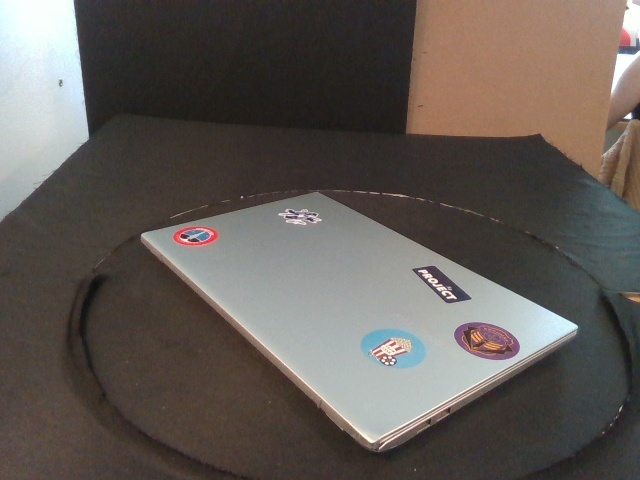laptop: (140, 191, 579, 453)
